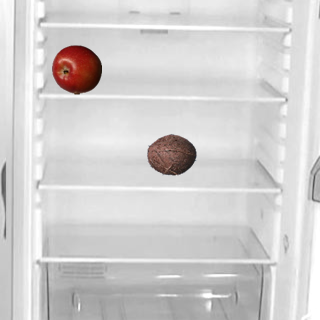Apple Braeburn: (51, 44, 101, 94)
Cocos: (146, 129, 196, 179)
